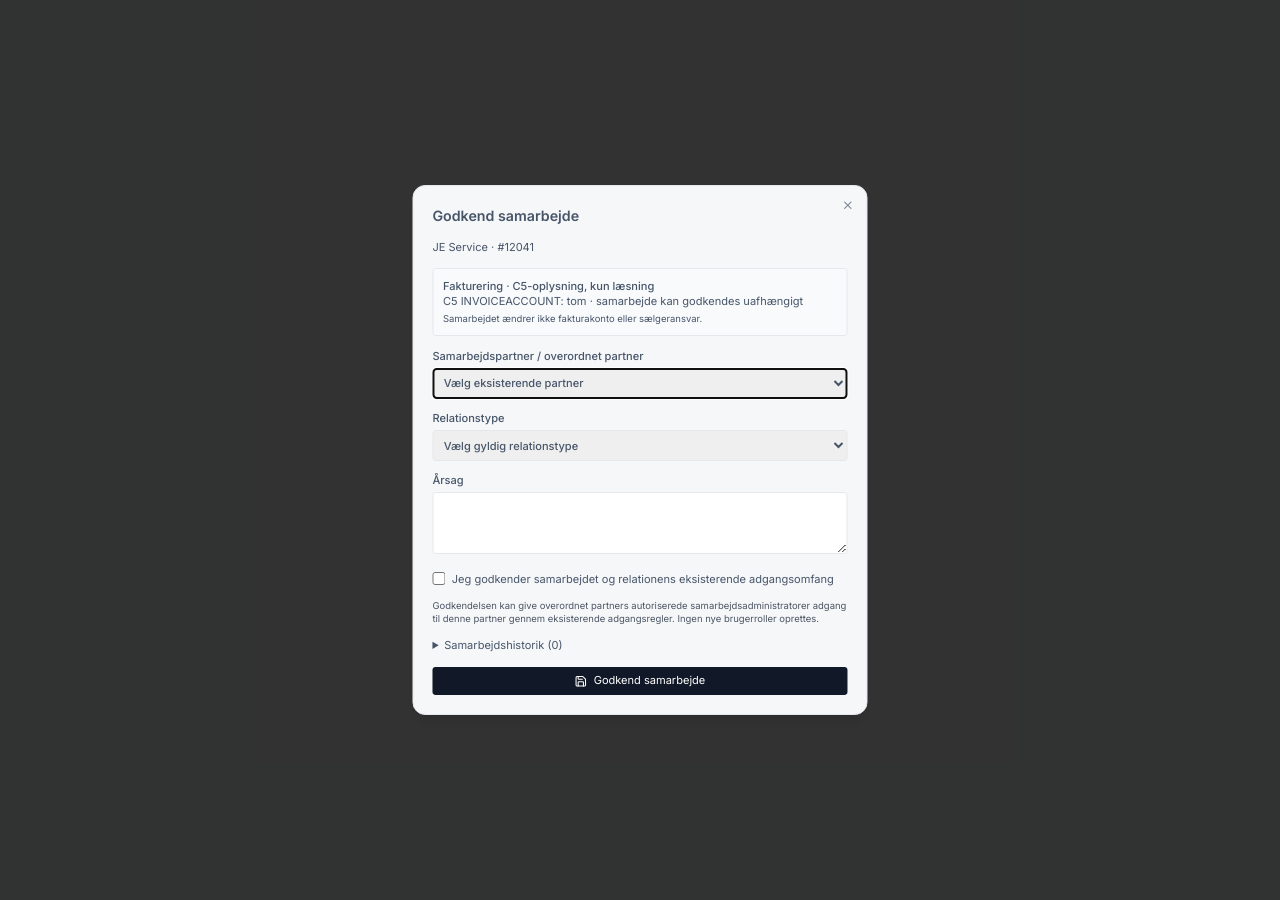
Test: permanent Backend cooperation actions › reviews importer → service_partner independently of billing
Later steps or results of the test are not shown.
Expected: the text "C5 INVOICEACCOUNT: tom · samarbejde kan godkendes uafhængigt" is shown, 443,294 -> 837,310
Select "10295 · AB Lauridsen" in the dropdown labelled "Samarbejdspartner / overordnet partner": (640,383) 432,368 -> 848,399
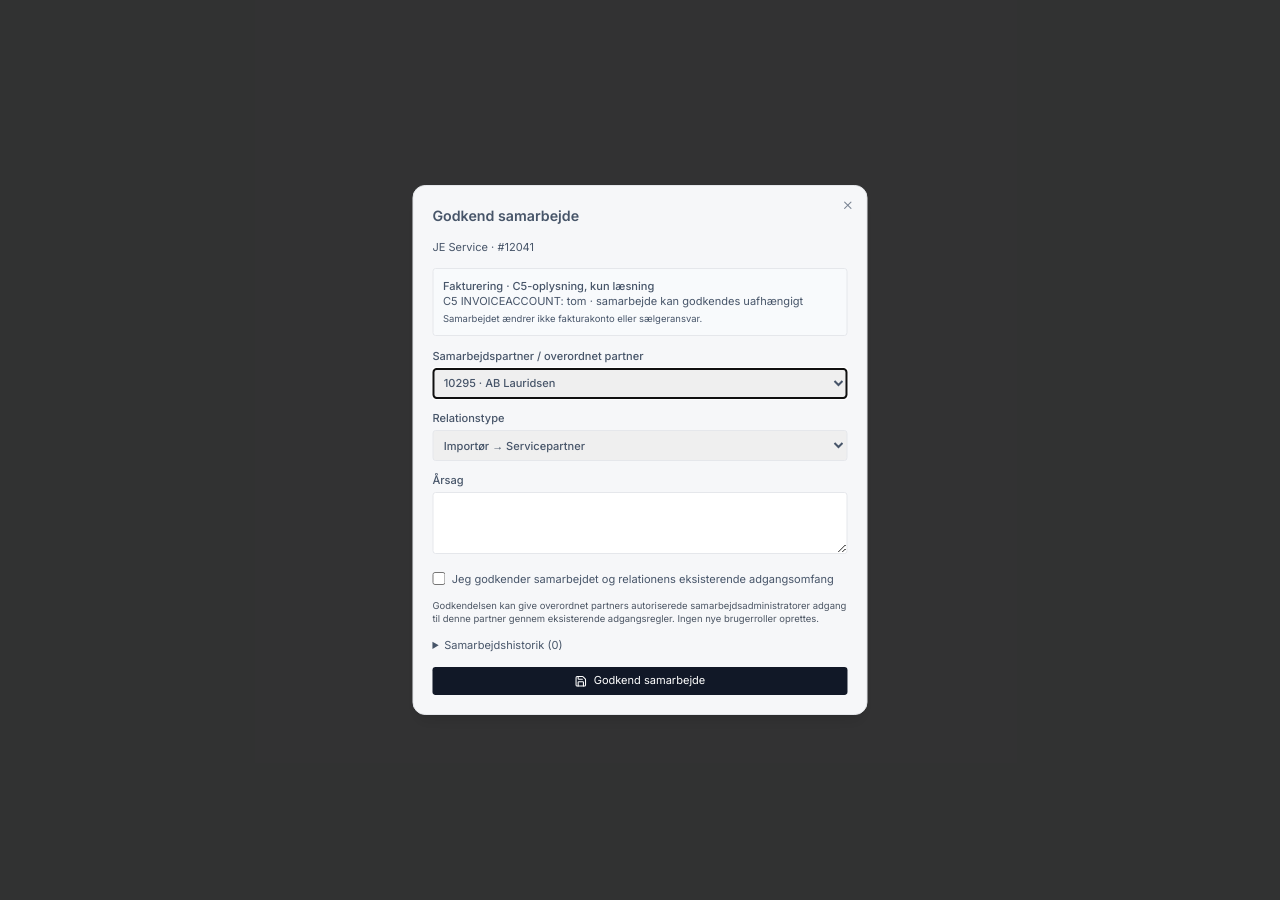
Result: the dropdown labelled "Relationstype" shows "Importør → Servicepartner" at 432,430 -> 848,461
